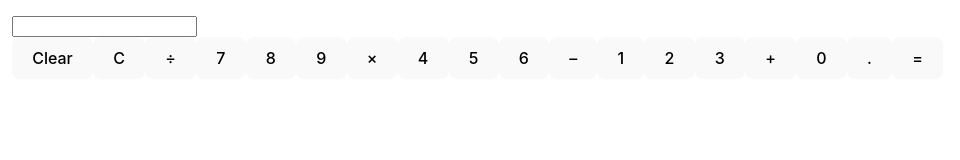
Test: Calculator E2E Tests › should perform division correctly
Click the button with test id "num-6": (525, 58) [499, 37, 550, 78]
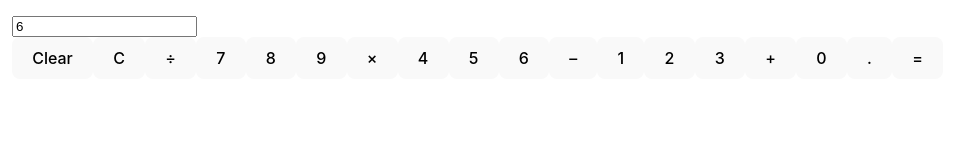
Click the button with test id "divide": (171, 58) [145, 37, 196, 78]
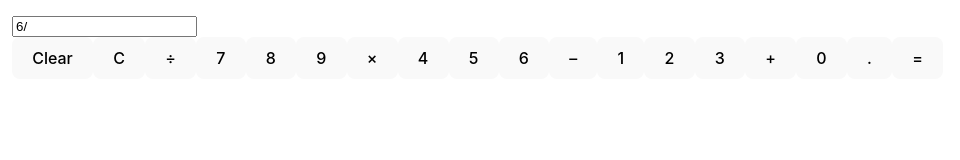
Click the button with test id "num-2": (669, 58) [644, 37, 694, 78]
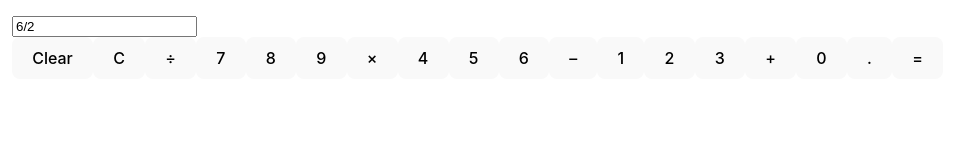
Click the button with test id "equals": (918, 58) [892, 37, 943, 78]
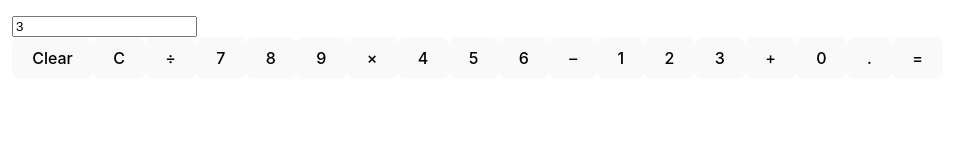
Expected: the field holds "3", [12, 16, 197, 37]
